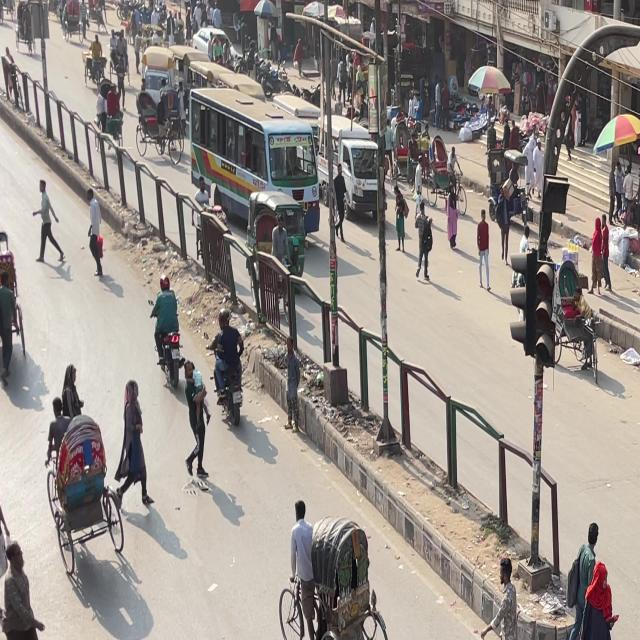motorbike: (136, 260, 193, 392), (203, 308, 256, 438)
